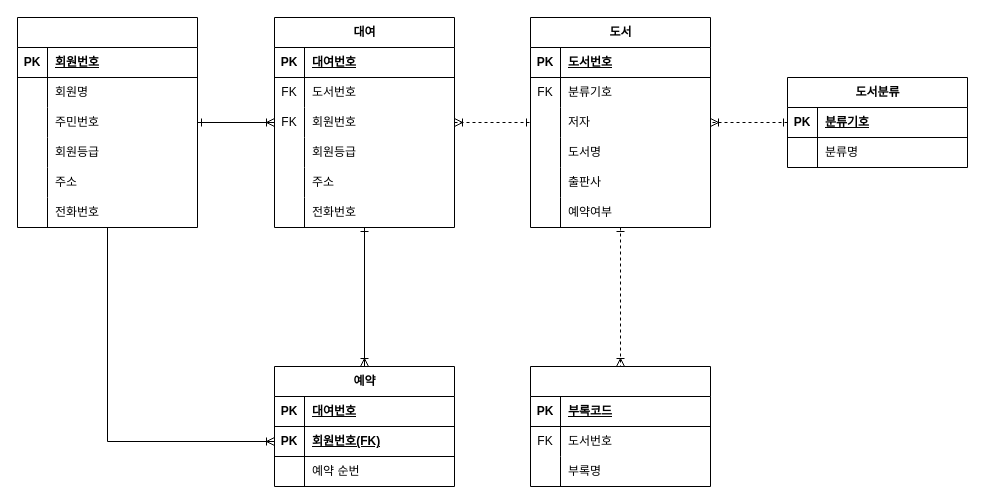
Some shapes in this 985 by 504 pixel diagram are drawn without their labels. Here are the shapes that lost their labels. From the top down, the box of each, then its label:
(16, 16, 198, 228): 회원
(530, 366, 710, 486): 부록
